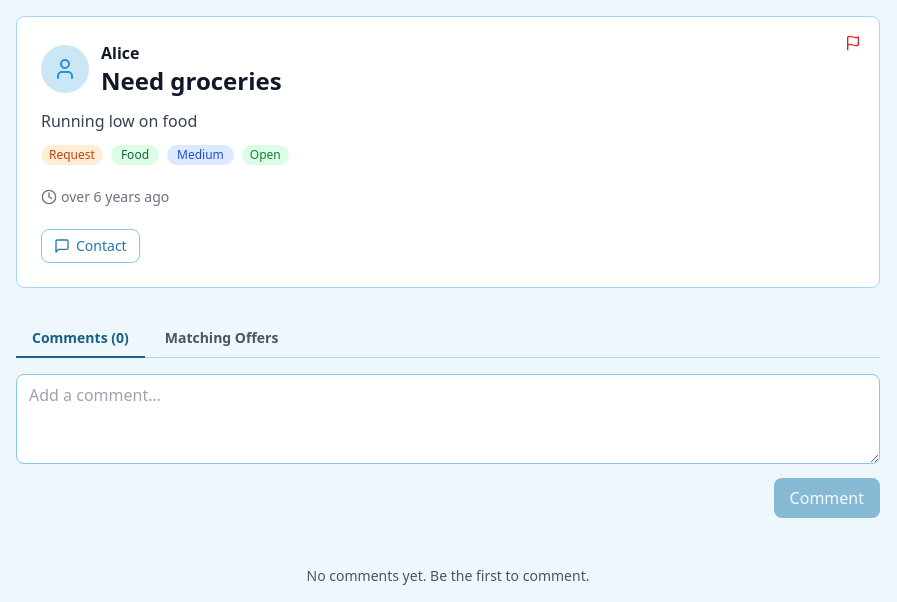
Test case: PostDetailPage — comments / related tabs › switches to the related-posts tab and renders matches
Expected: the heading "Need groceries" is shown, [101, 65, 282, 97]
What coordinates should you click on to do the following:
click the tab "Matching Offers"
I would click on:
 (222, 339)
Its box is [149, 320, 294, 358].
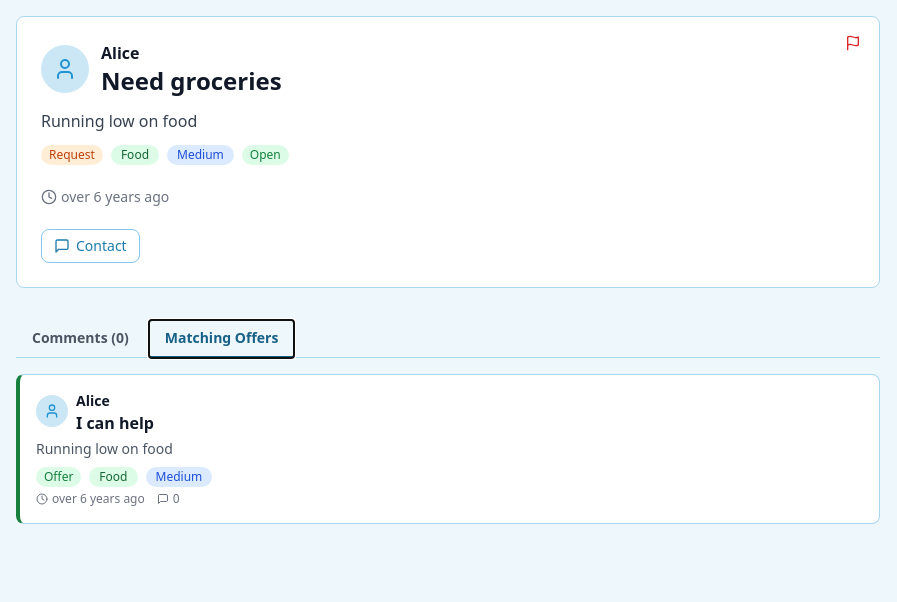
Expected: the field with placeholder "add a comment" is not shown
Now the heading "I can help" is shown, box [76, 412, 154, 434]
